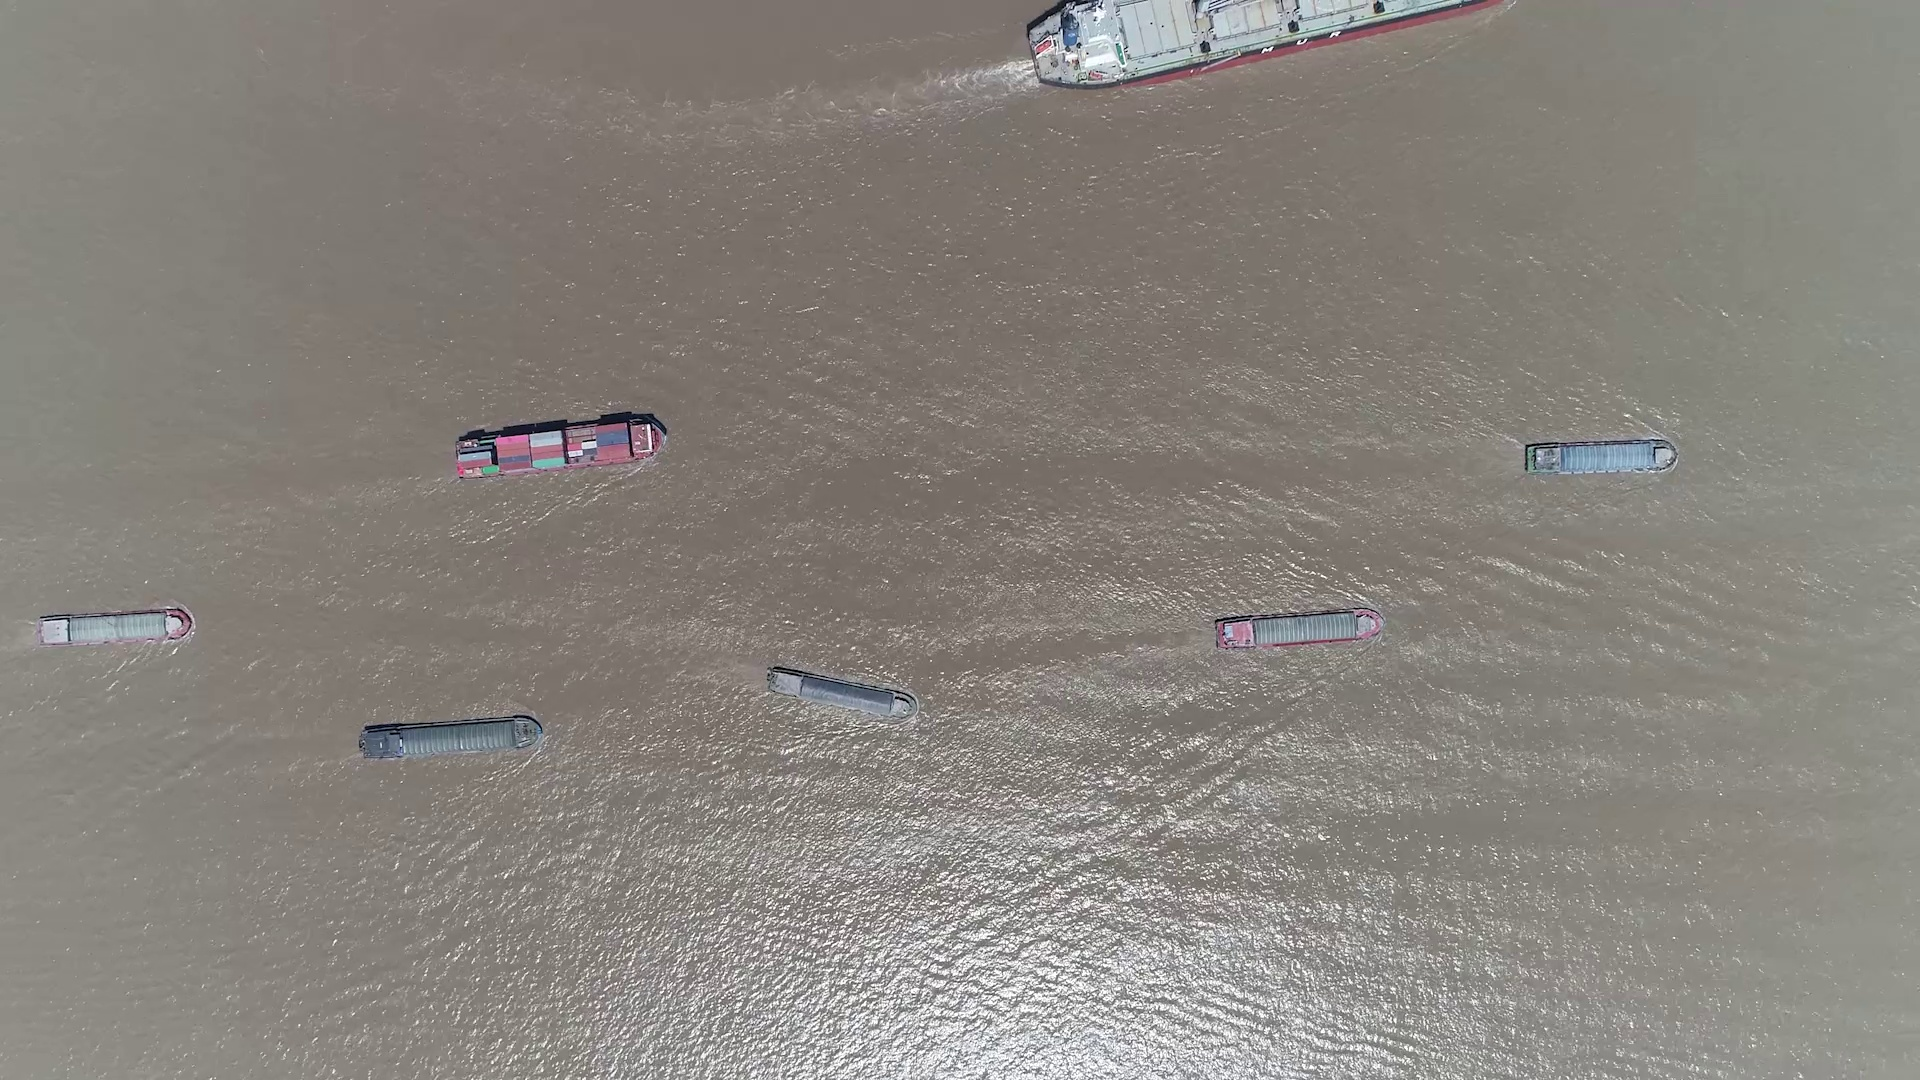ship: (1022, 3, 1505, 84), (454, 415, 666, 477), (766, 665, 918, 721), (361, 715, 543, 760), (1215, 608, 1385, 649), (36, 608, 191, 646), (1524, 440, 1677, 475)
